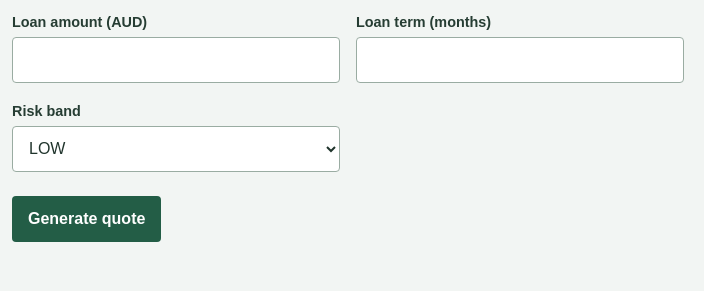
Test: LoanQuoteForm › rejects invalid loan term 1.5
In the number field labelled "Loan amount (AUD)": {"x": 176, "y": 60} x1=12 y1=37 x2=340 y2=83, type "1000"
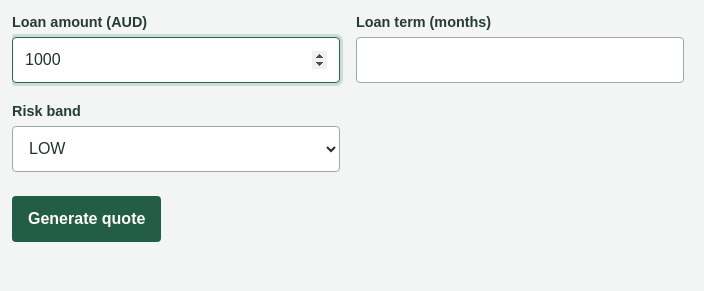
In the number field labelled "Loan term (months)": {"x": 520, "y": 60} x1=356 y1=37 x2=684 y2=83, type "1.5"
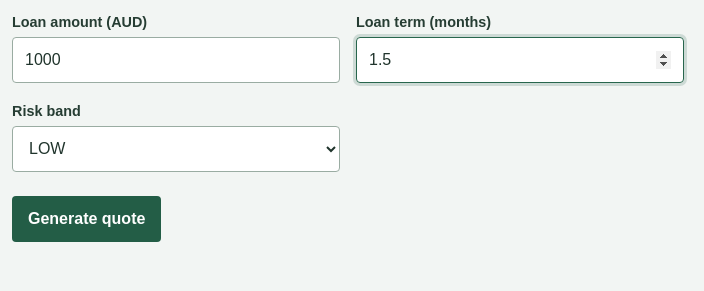
Click the button "Generate quote": {"x": 87, "y": 219} x1=12 y1=196 x2=161 y2=242
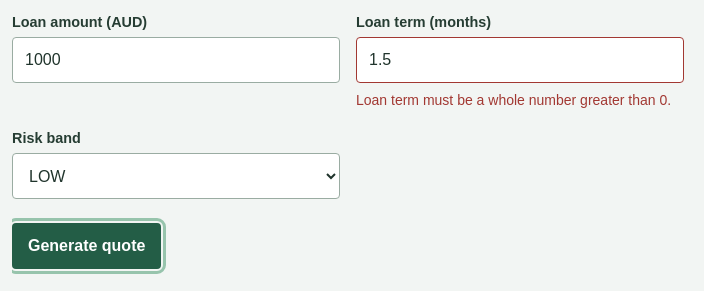
Result: the text "Loan term must be a whole number greater than 0." is shown at x1=356 y1=90 x2=684 y2=110
